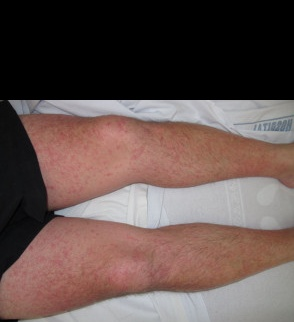SJS-TEN: (0, 204, 294, 322), (11, 106, 294, 212)
